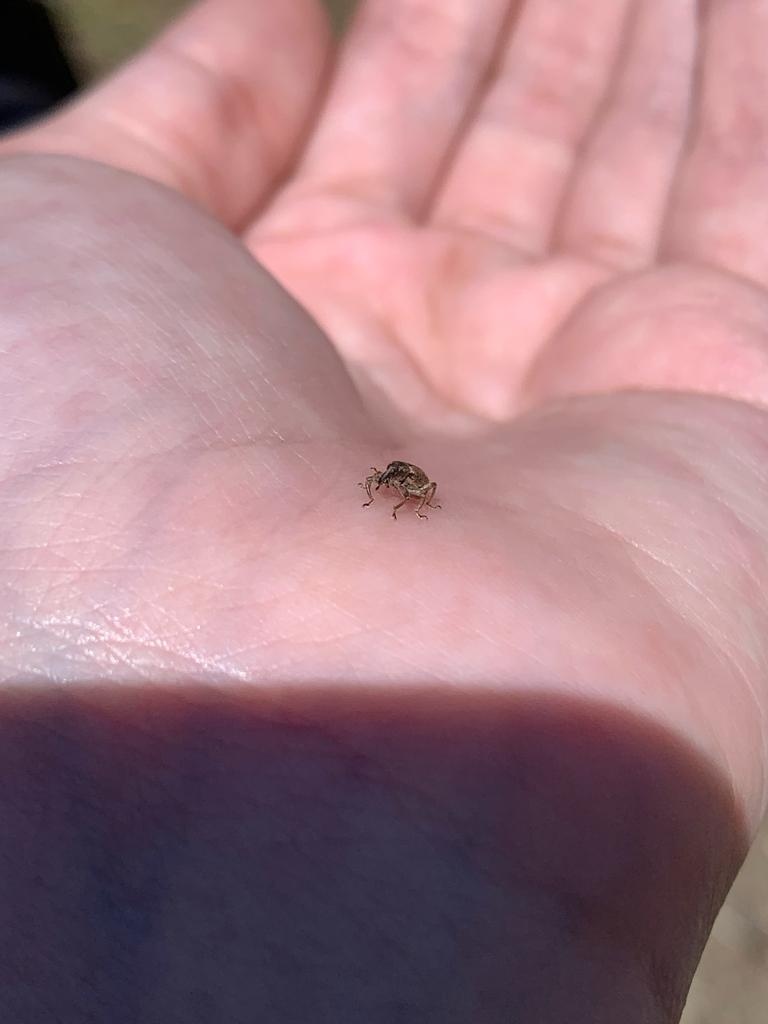weevils: (331, 434, 467, 544)
